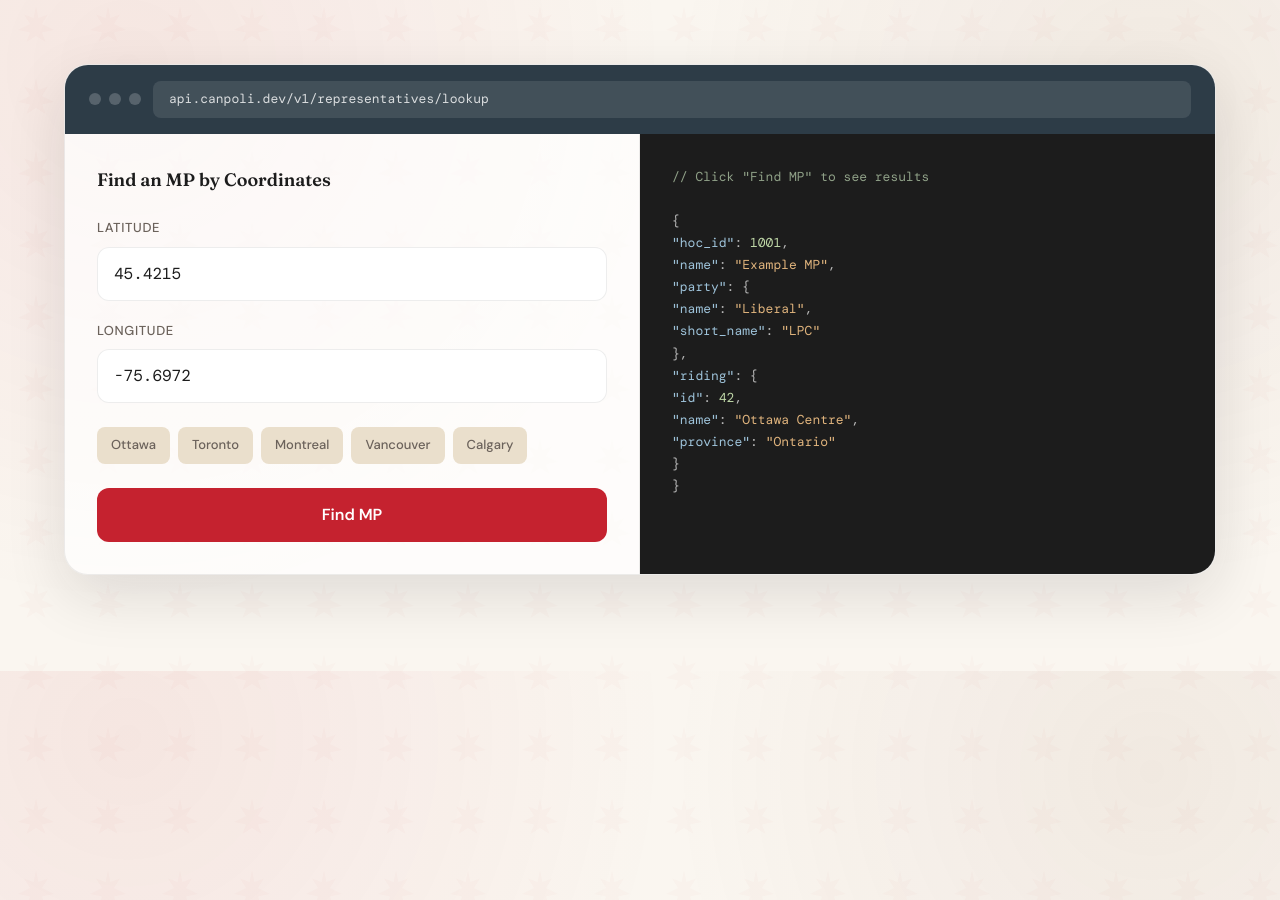
Test: Demo › updates coordinates when a quick location is selected
What coordinates should you click on to do the following:
click the button "Toronto"
I would click on:
 (215, 446)
Its box is [178, 427, 253, 464].
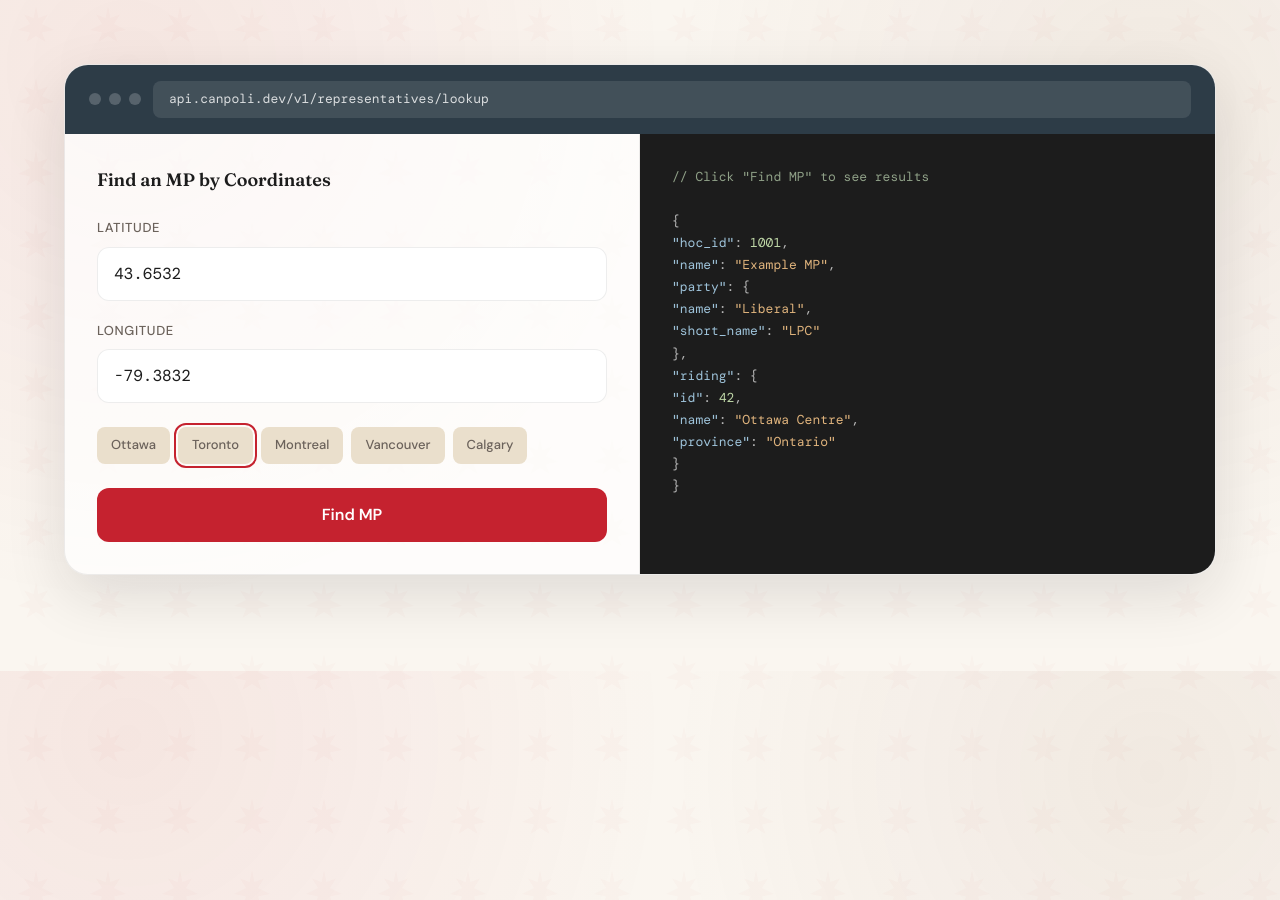
Now the field with placeholder "e.g., 45.4215" below "Latitude" holds "43.6532", box [97, 247, 607, 301]
Now the field with placeholder "e.g., -75.6972" below "Longitude" holds "-79.3832", box [97, 349, 607, 403]
